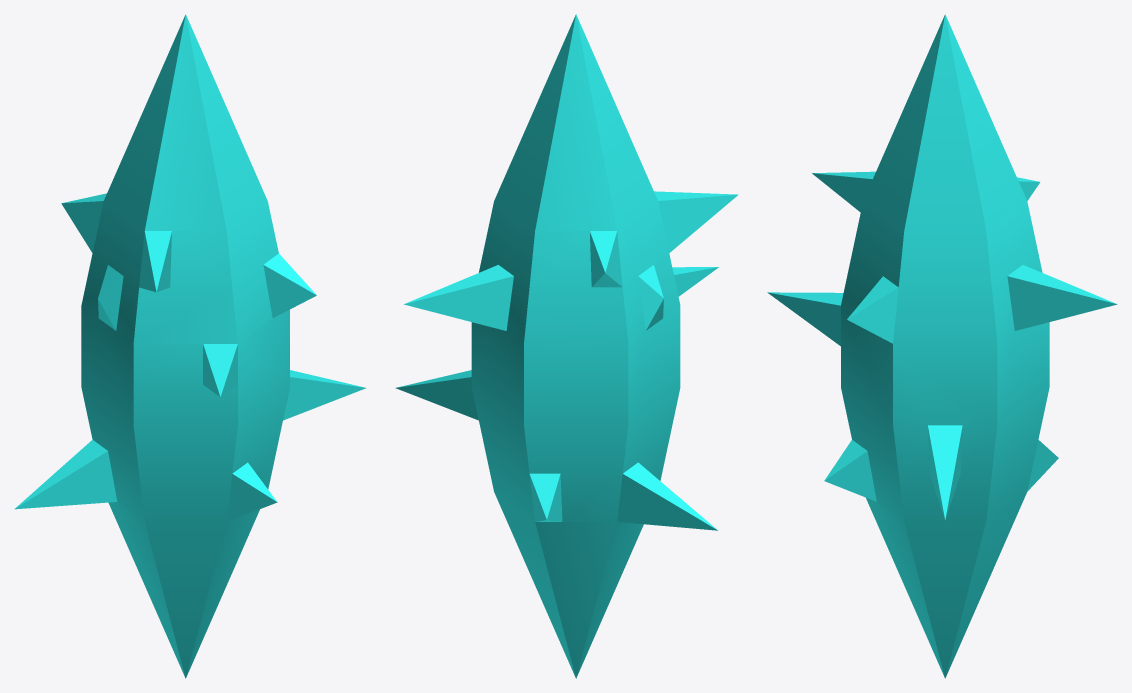
File: Astral Ingot.fbx
The picture shows the model from 3 angles, left to right: view 1: azimuth 30°, elevation 25°; view 2: azimuth 150°, elevation 25°; view 3: azimuth 270°, elevation 25°; orthographic projection.
Visible parts, largest first — view 1: Cylinder; view 2: Cylinder; view 3: Cylinder.
Boxes of the visible parts, left/top/right/bottom form: Cylinder: left=14, top=14, right=365, bottom=678; Cylinder: left=395, top=14, right=738, bottom=678; Cylinder: left=767, top=14, right=1117, bottom=678.
Bounding box in the file's own units: 117 × 220 × 105.
